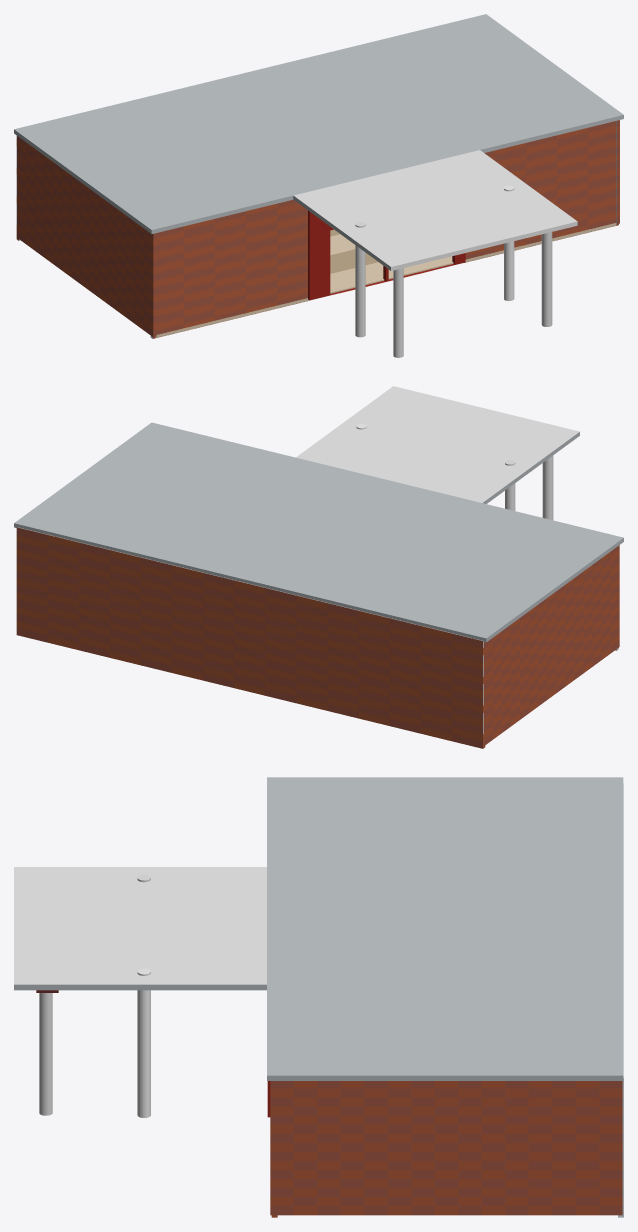
Rendered from Globo.glb.
3 renders of one model, top to bottom at view 1: azimuth 30°, elevation 25°; view 2: azimuth 150°, elevation 25°; view 3: azimuth 270°, elevation 25°, orthographic. The views are drawn at different scales.
Visible parts, largest first — view 1: Cubo.004, Cubo.002, Cubo.001, Cube, Cube.001, Cilindro.003, Cilindro.001, Cilindro.002, Cilindro; view 2: Cubo.004, Cubo, Cubo.001, Cilindro.002; view 3: Cubo.004, Cubo.003, Cilindro, Cilindro.003.
Boxes of the visible parts, x1,y1,x2,y2 form: Cubo.004: (14, 14, 623, 270); Cubo.002: (150, 121, 618, 338); Cubo.001: (17, 136, 156, 337); Cube: (155, 223, 616, 337); Cube.001: (308, 210, 465, 300); Cilindro.003: (541, 232, 552, 326); Cilindro.001: (355, 222, 365, 337); Cilindro.002: (393, 268, 403, 357); Cilindro: (504, 185, 514, 300); Cubo.004: (14, 386, 623, 642); Cubo: (16, 527, 485, 748); Cubo.001: (483, 545, 619, 745); Cilindro.002: (542, 455, 553, 520); Cubo.004: (14, 777, 623, 1080); Cubo.003: (270, 1081, 622, 1215); Cilindro: (137, 968, 150, 1117); Cilindro.003: (39, 993, 52, 1115).
Size of the model in its own units: 16.4 by 3.73 by 14.18.
